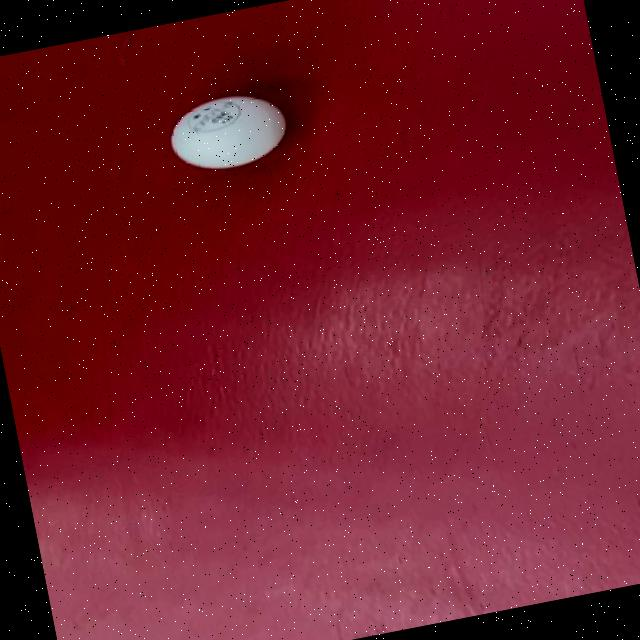ping-pong-ball: (159, 81, 297, 180)
